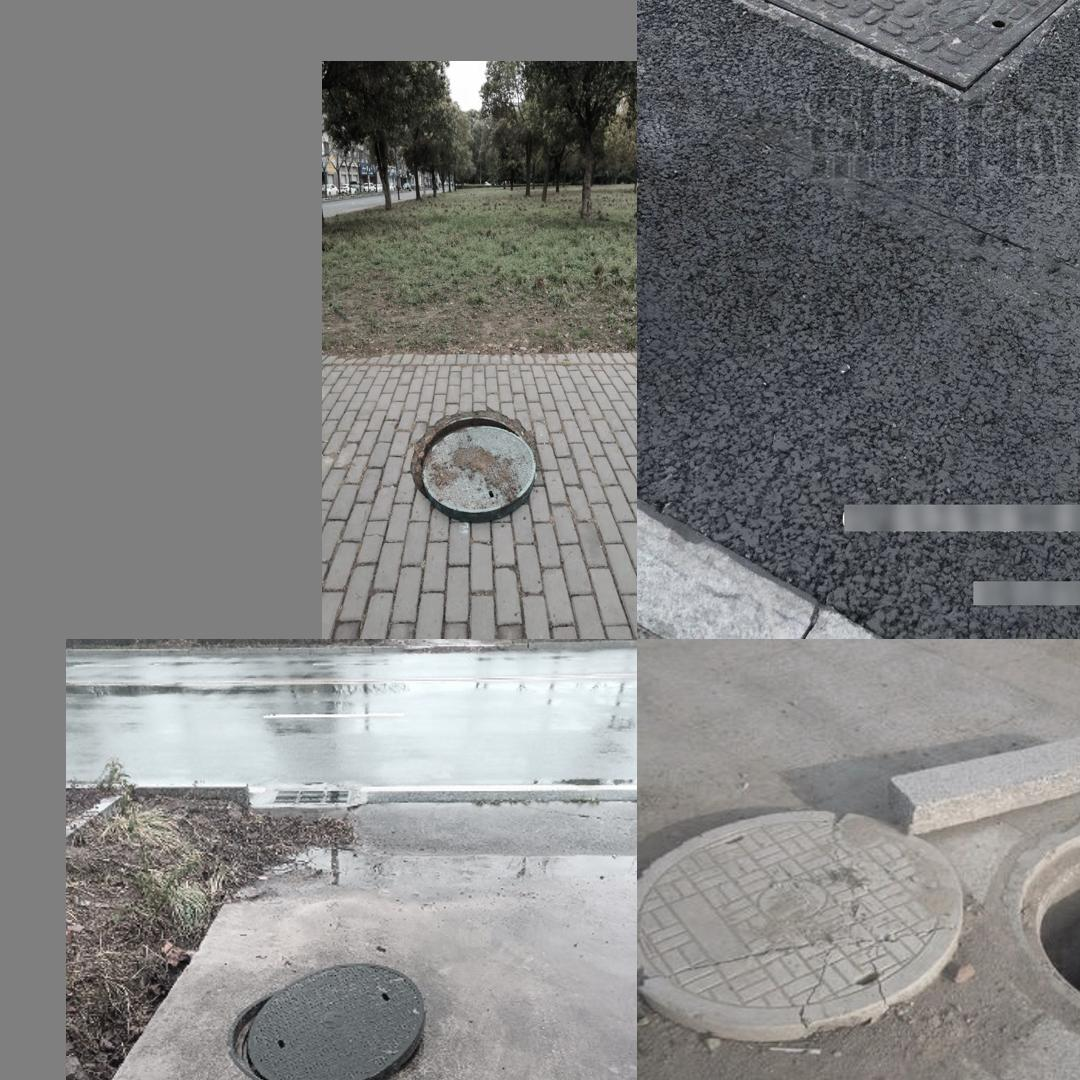uncovered: (643, 798, 1080, 1051), (710, 0, 1080, 100), (228, 961, 425, 1080), (416, 411, 536, 518)
